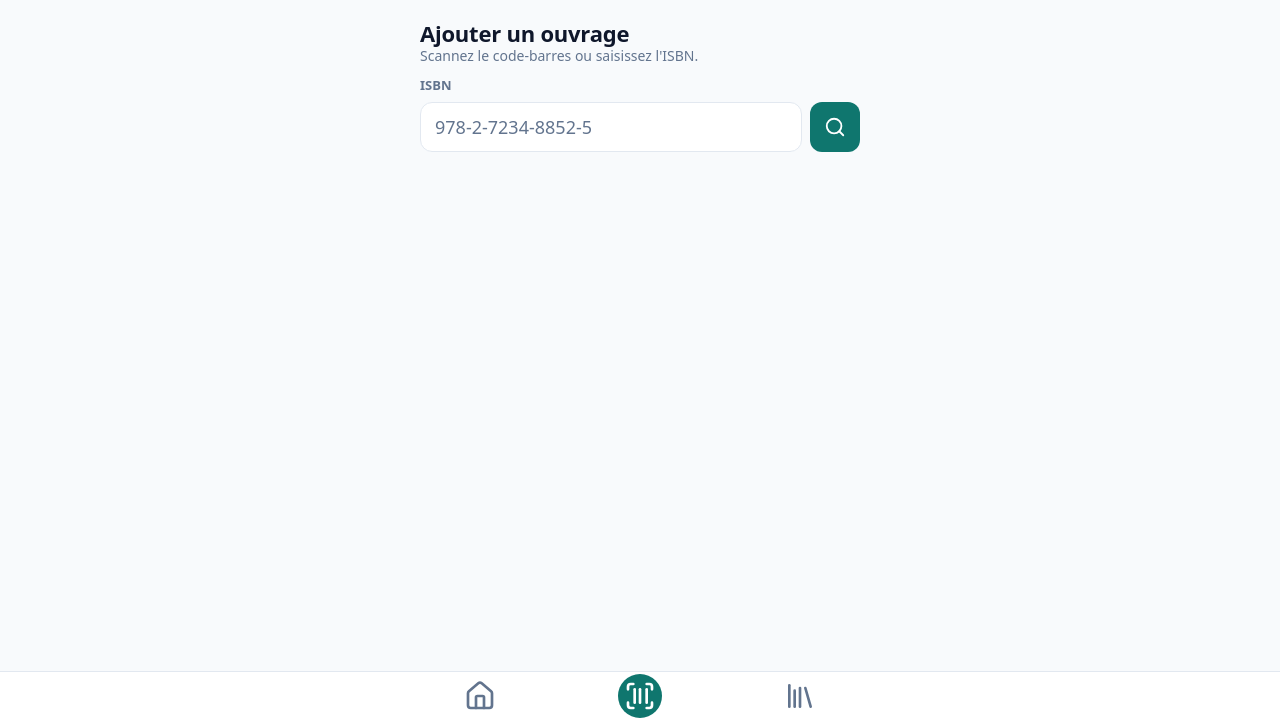
Test: Edition form › S2 An unknown ISBN opens an empty form
The image size is (1280, 720).
In the field labelled "ISBN": (611, 127) x1=420 y1=102 x2=802 y2=152, type "9782000000006"
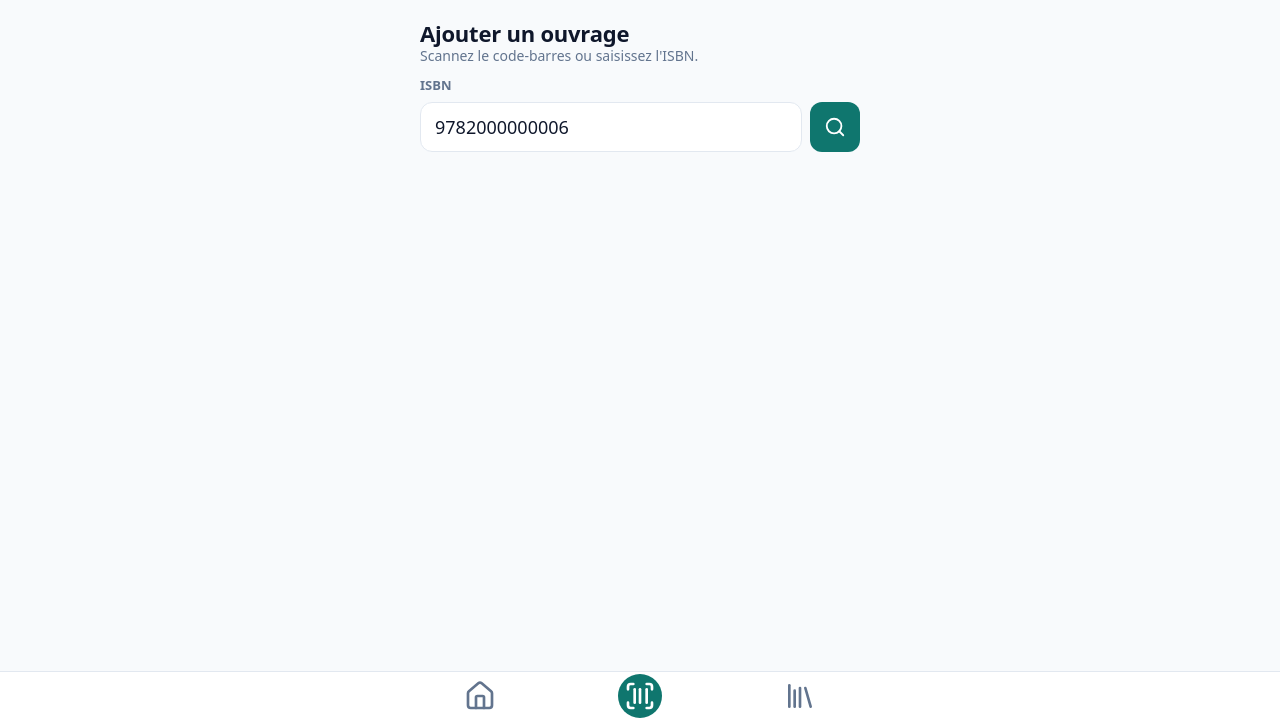
Click the button named "Chercher": click(835, 127) x1=810 y1=102 x2=860 y2=152
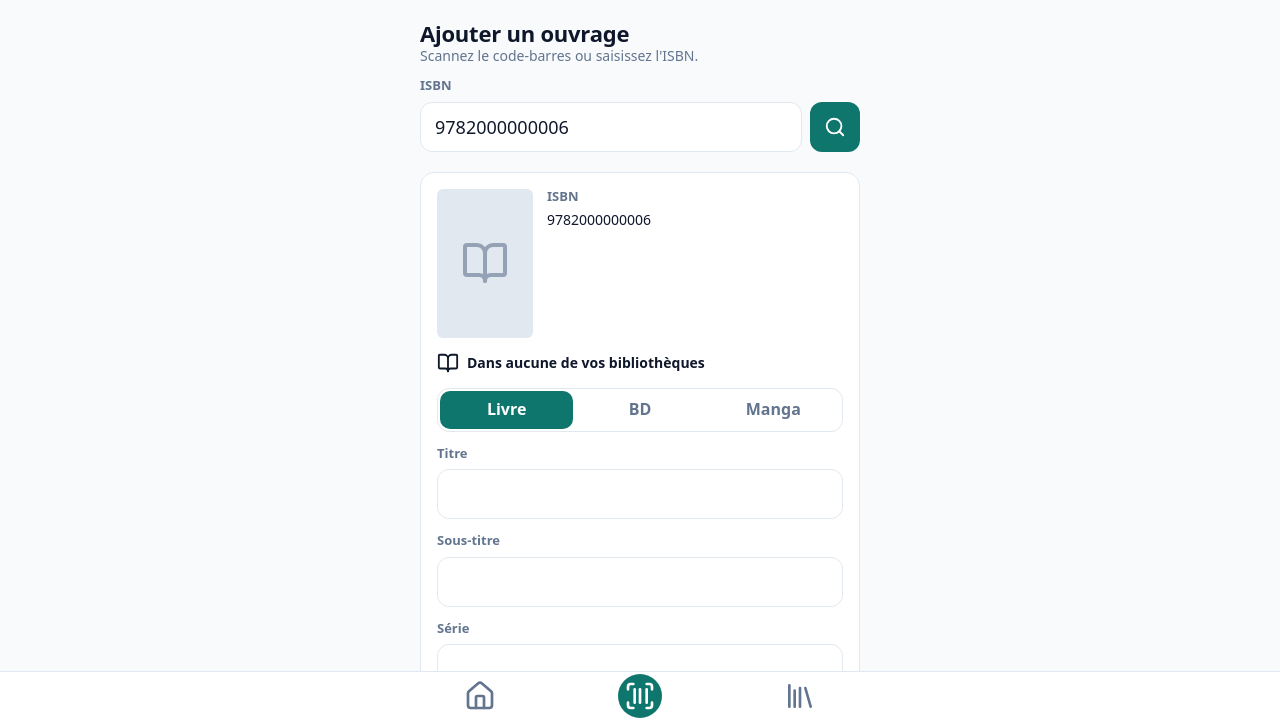
Check: the field labelled "Titre" is shown, box x1=437 y1=469 x2=843 y2=519
Check: the radio button labelled "Livre" is checked, box x1=440 y1=391 x2=573 y2=429
